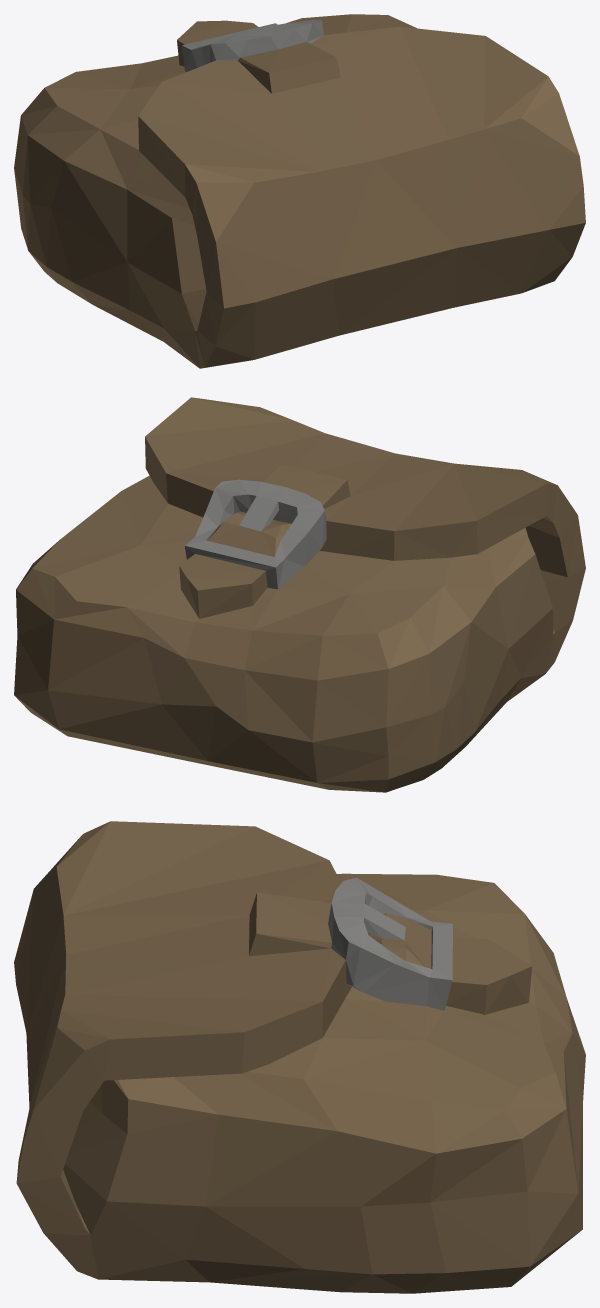
Rendered from LeatherBag_1.fbx.
3 renders of one model, top to bottom at view 1: azimuth 30°, elevation 25°; view 2: azimuth 150°, elevation 25°; view 3: azimuth 270°, elevation 25°, orthographic. The views are drawn at different scales.
Visible parts, largest first — view 1: LeatherBag_1; view 2: LeatherBag_1; view 3: LeatherBag_1.
Part boxes in pixels (bbox=[...]): LeatherBag_1: bbox=[14, 14, 585, 368]; LeatherBag_1: bbox=[14, 397, 585, 792]; LeatherBag_1: bbox=[14, 821, 585, 1293].
Bounding box in the file's own units: 0.1787 × 0.1732 × 0.0914.
